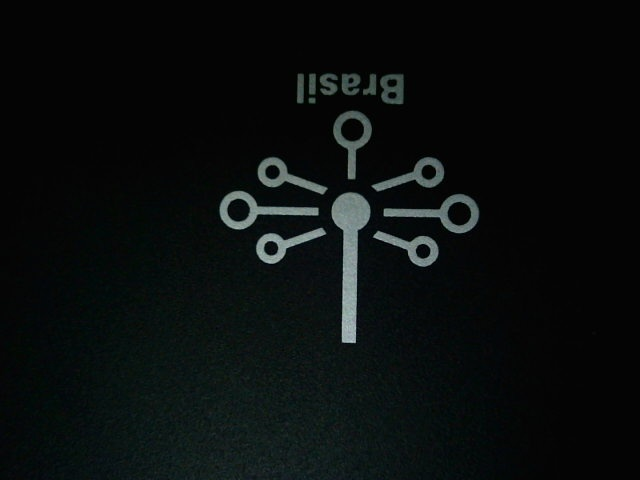BG_Brasil: (186, 56, 497, 360)
